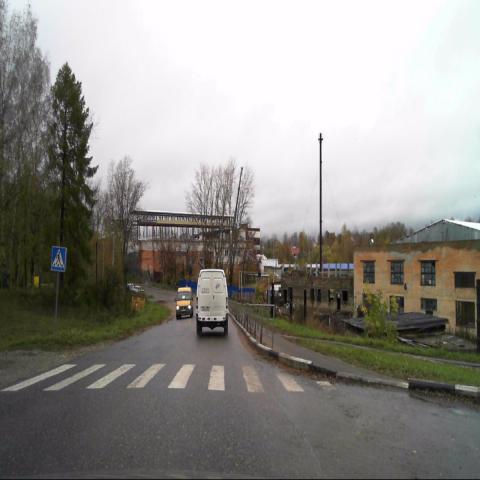5_19_1: (50, 245, 66, 273)
